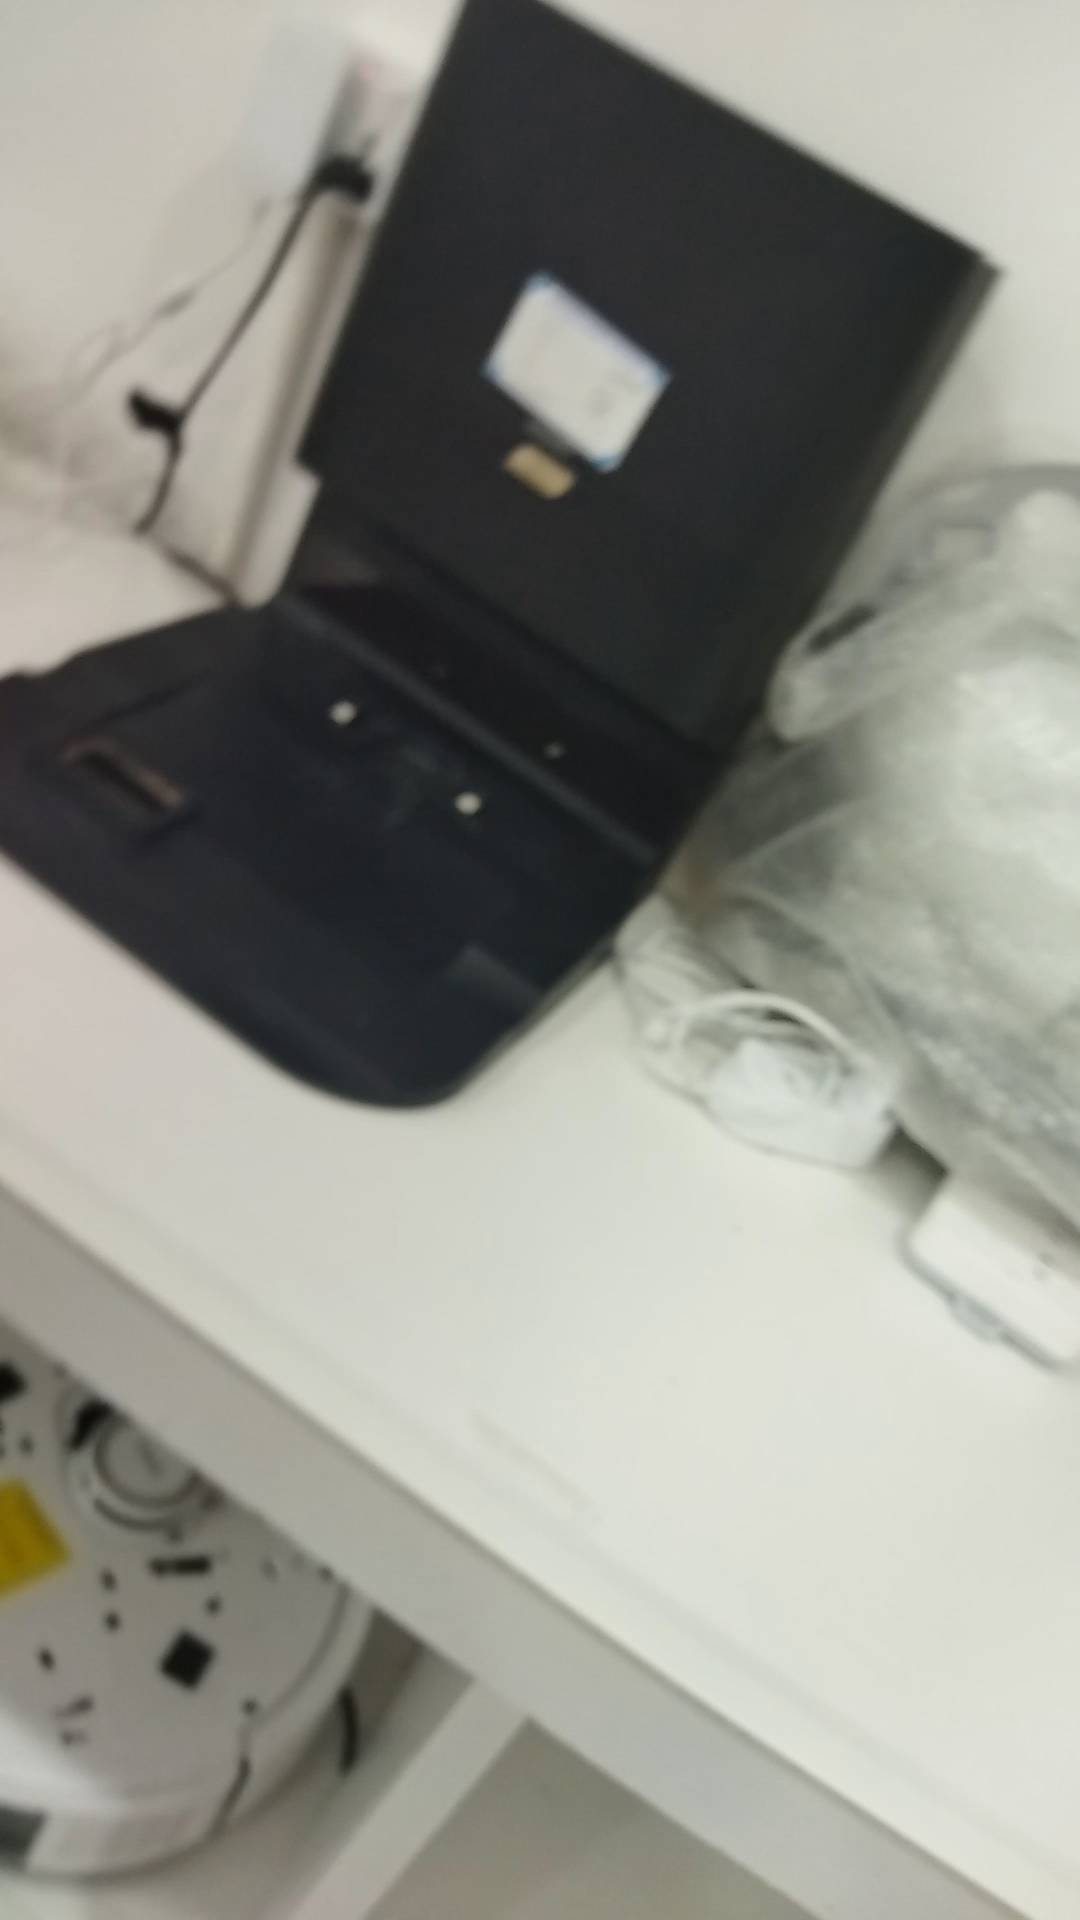dust collecting barrel: (1, 1, 1000, 1106)
